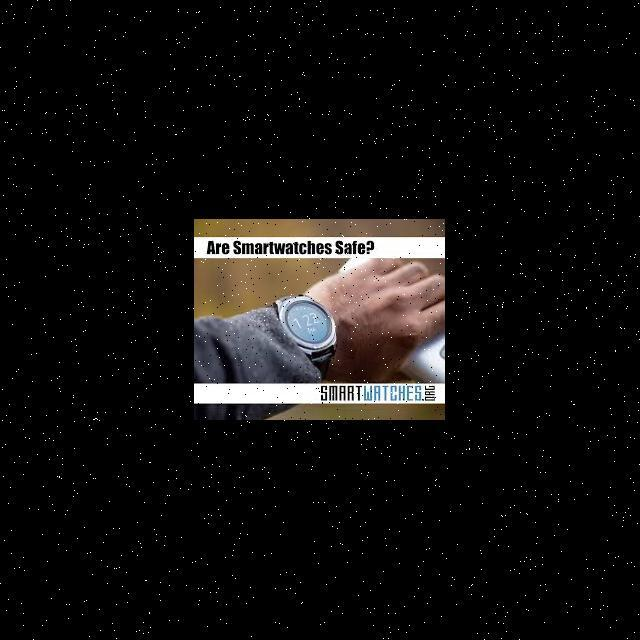watch: (256, 276, 350, 399)
